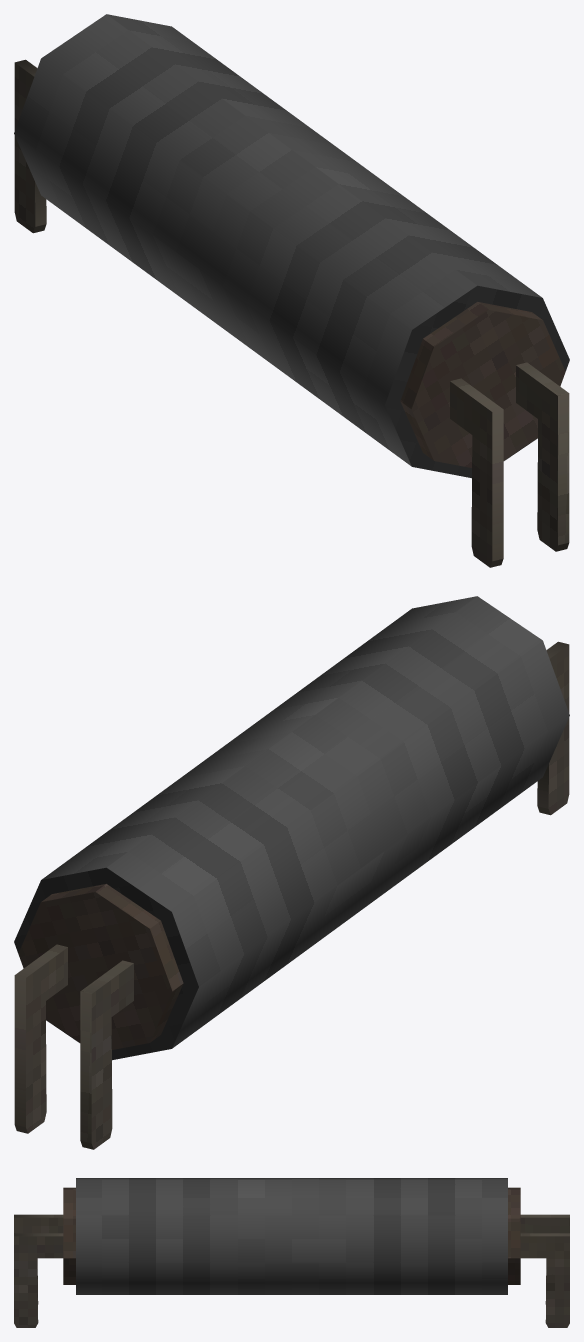
File: capacitor_etx_5.glb
The picture shows the model from 3 angles, top to bottom: view 1: azimuth 30°, elevation 25°; view 2: azimuth 150°, elevation 25°; view 3: azimuth 270°, elevation 25°; orthographic projection. The views are drawn at different scales.
Visible parts, largest first — view 1: capacitor_etx_5; view 2: capacitor_etx_5; view 3: capacitor_etx_5.
Boxes of the visible parts, <box> form: capacitor_etx_5: <box>14,14,569,567</box>; capacitor_etx_5: <box>14,596,569,1149</box>; capacitor_etx_5: <box>14,1178,569,1327</box>.
Bounding box in the file's own units: 0.0432 × 0.0525 × 0.1932.
1 material, 1 textured.
